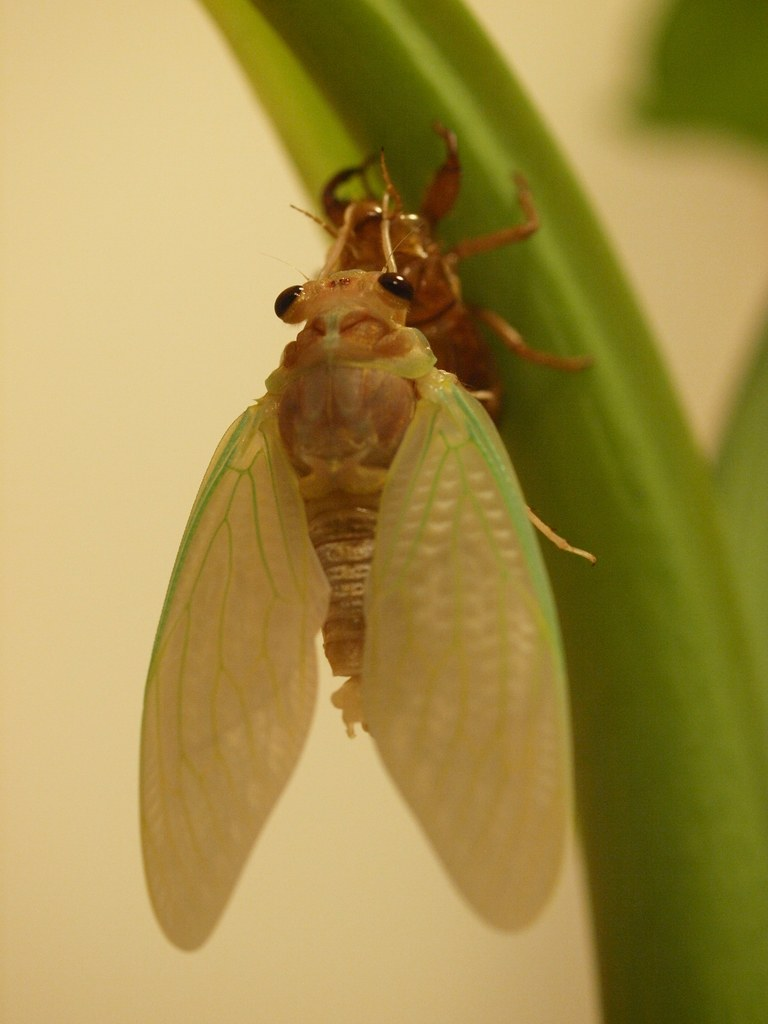insect: (289, 127, 598, 560)
